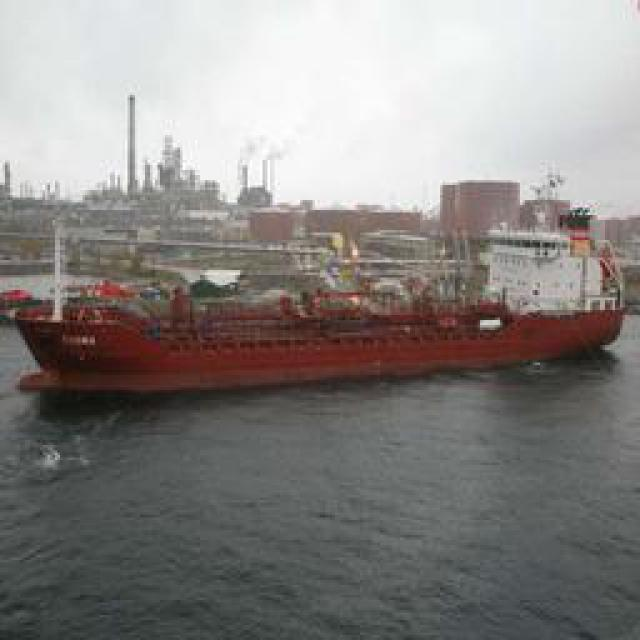Ship: (11, 247, 631, 405)
